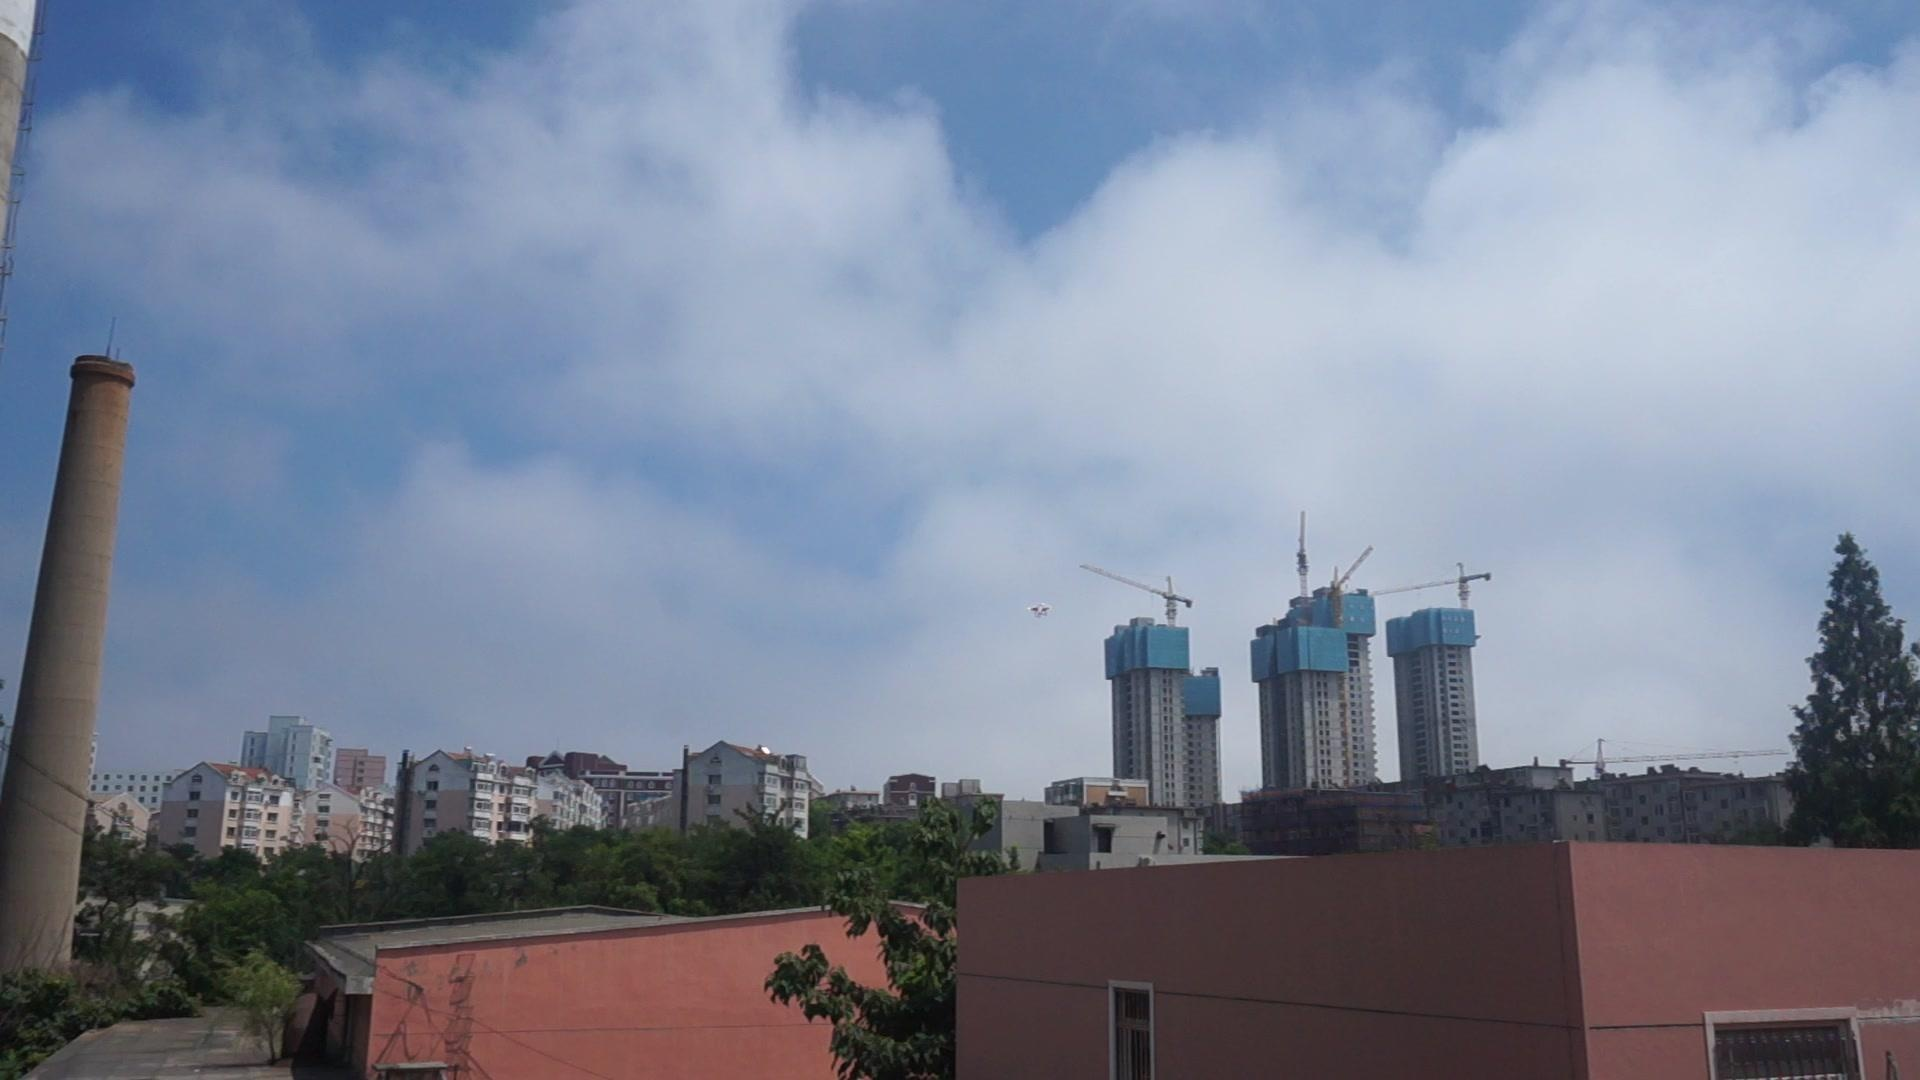UAV: (1027, 601, 1054, 618)
